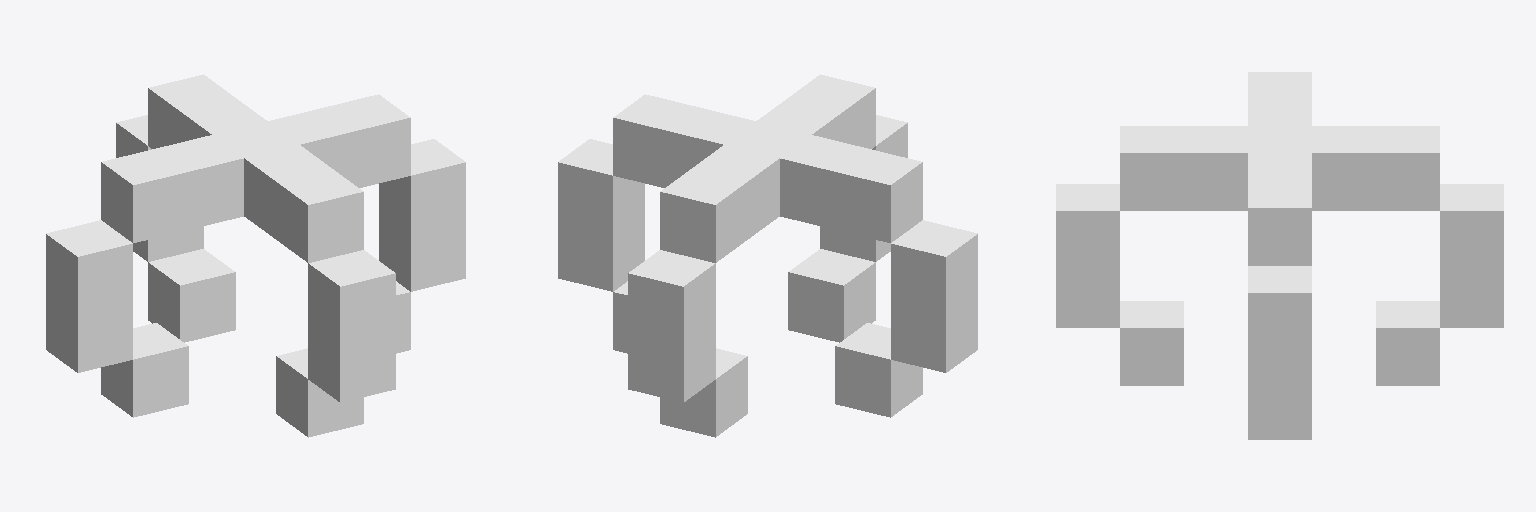
Rendered from Crane_hook.obj.
3 views of the same model, side by side, from view 1: azimuth 30°, elevation 25°; view 2: azimuth 150°, elevation 25°; view 3: azimuth 270°, elevation 25° (orthographic).
Visible parts, largest first — view 1: object 1; view 2: object 1; view 3: object 1.
Boxes of the visible parts, x1=… form: object 1: x1=46, y1=74, x2=465, y2=437; object 1: x1=558, y1=74, x2=977, y2=437; object 1: x1=1056, y1=72, x2=1503, y2=439.
Bounding box in the file's own units: 1.4 × 0.8 × 1.4.